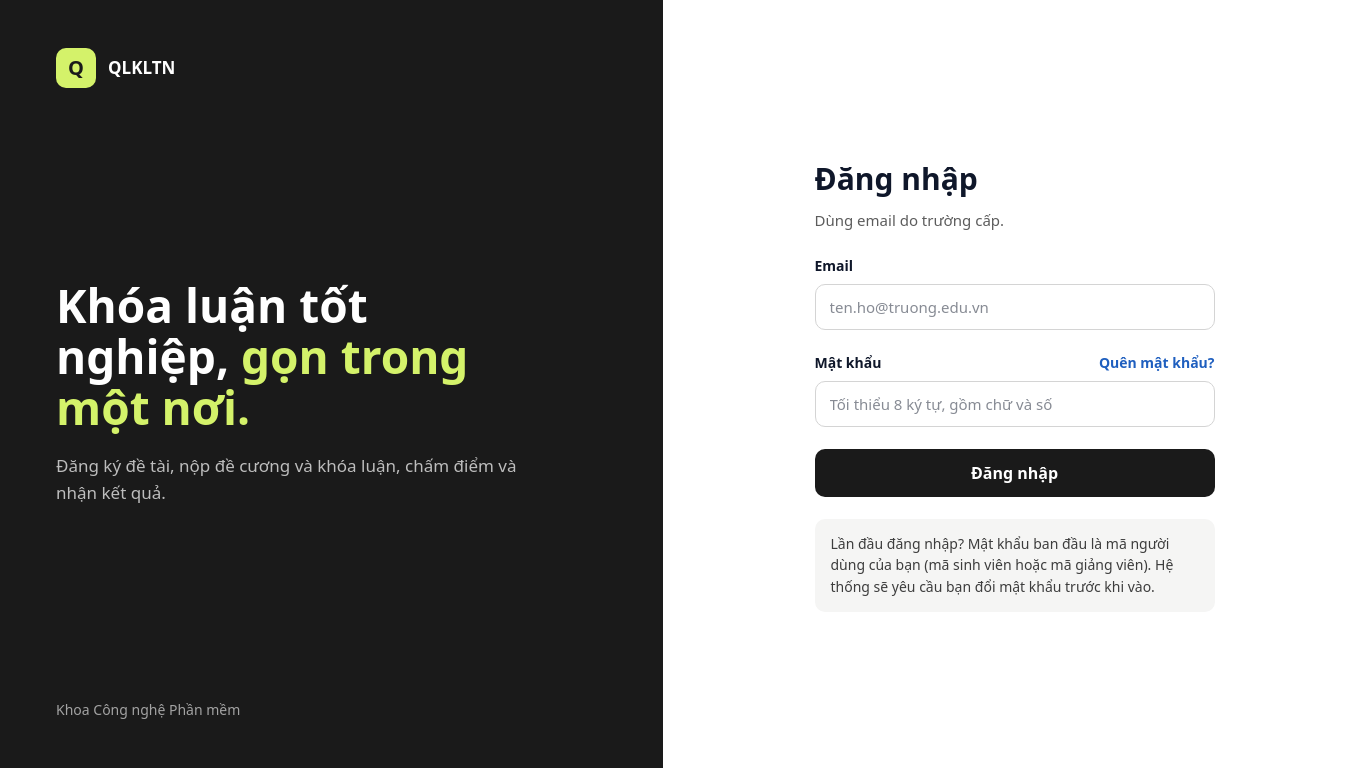
Test: shows an error when email or password is empty
Click the button "Đăng nhập".
click(1014, 473)  # box [814,449,1214,497]
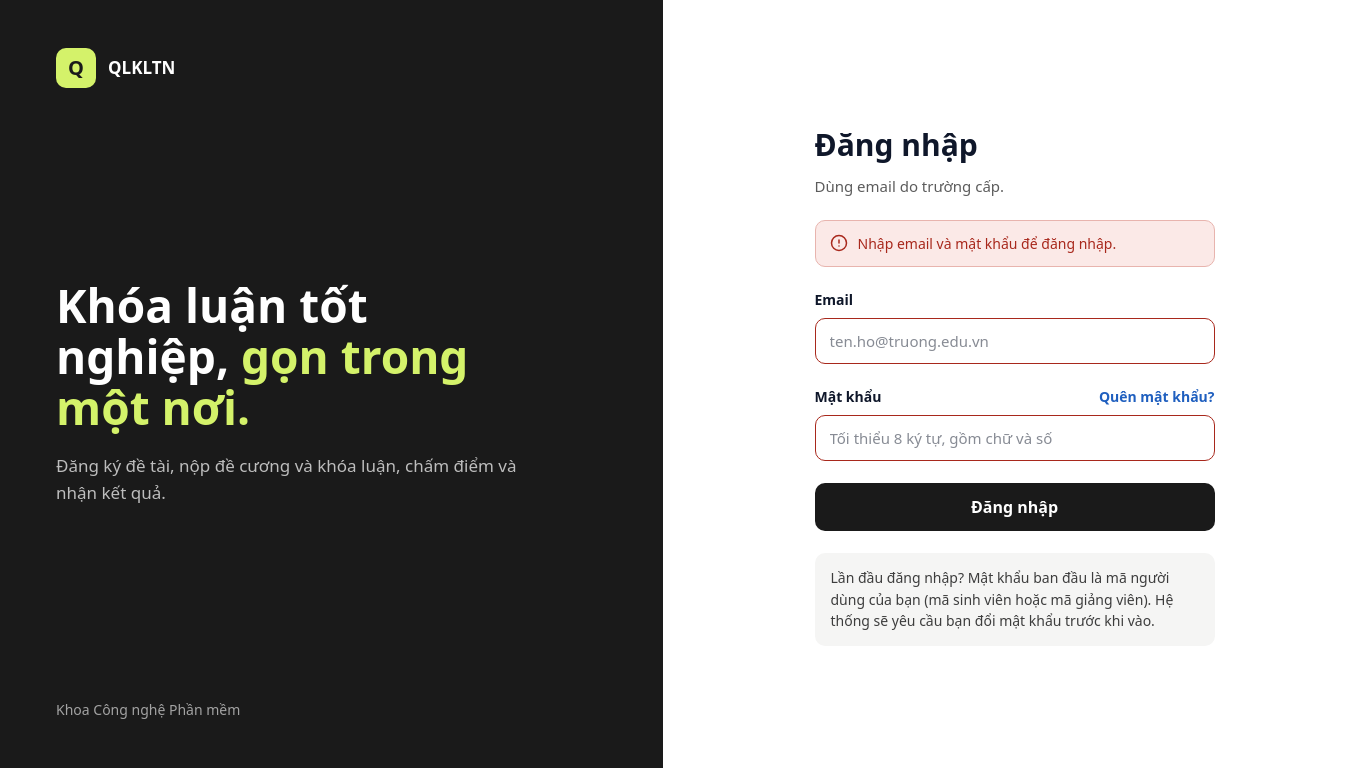
Check: the message reads "Nhập email và mật khẩu để đăng nhập.", box [858,234,1116,253]
